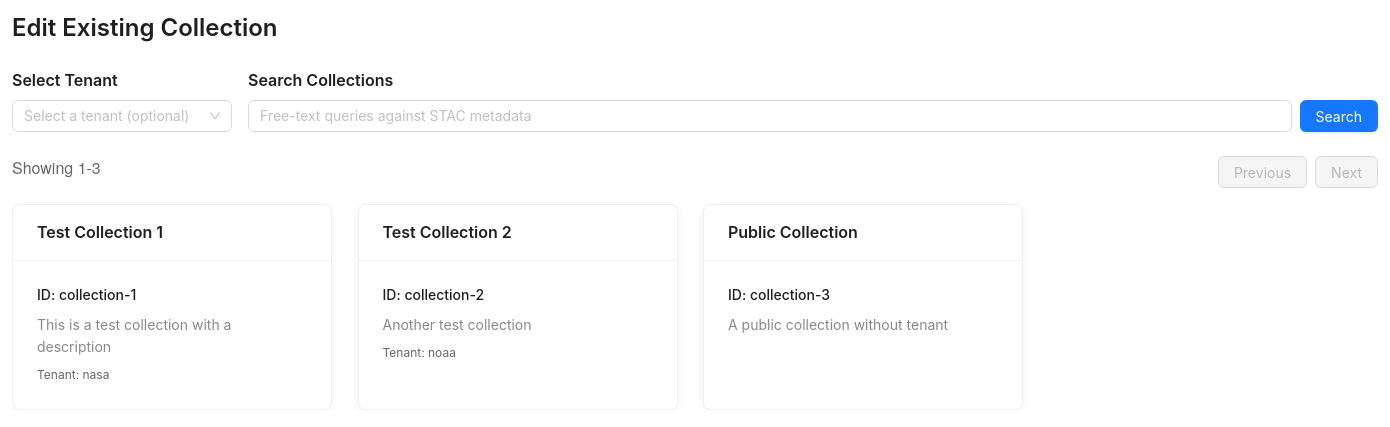
Scenario: ExistingCollectionsList › should filter collections by tenant when tenant is selected
Click the dropdown: (113, 116) [24, 101, 202, 131]
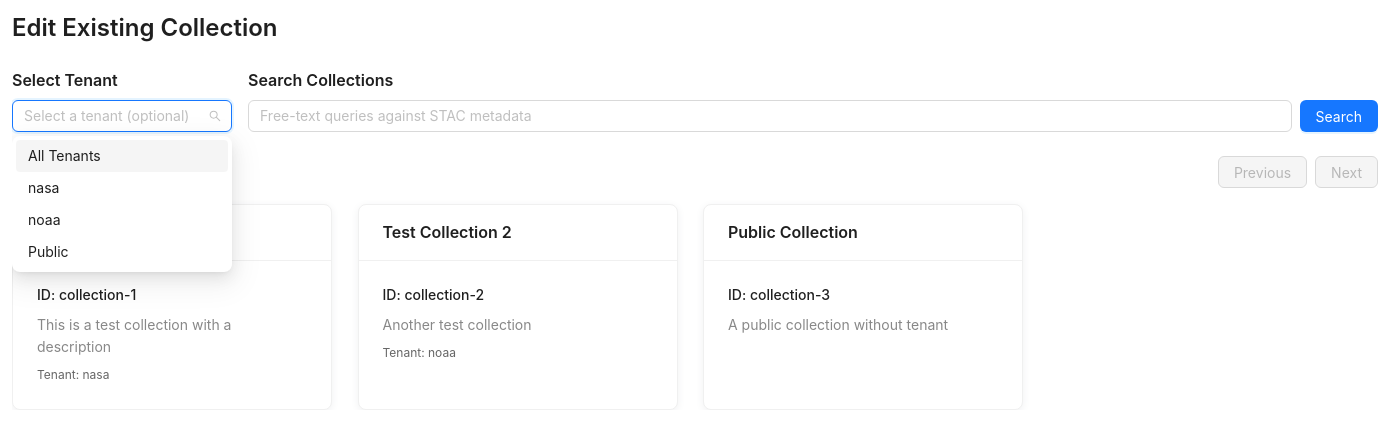
Click the text "nasa": (44, 188) [28, 179, 59, 196]
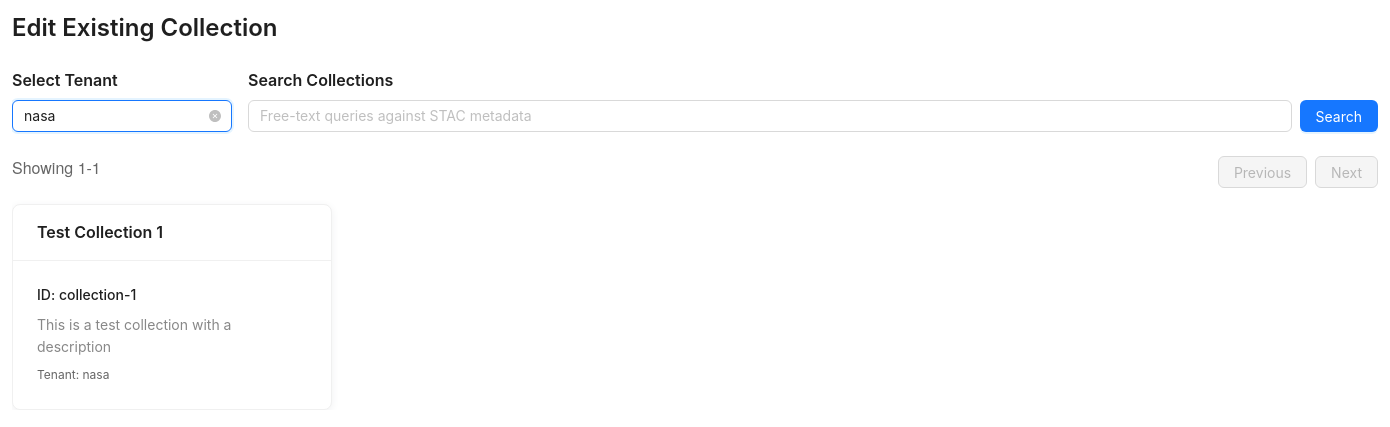
Expected: the text "Test Collection 1" is shown, [37, 222, 163, 242]
Expected: the text "Test Collection 2" is gone
